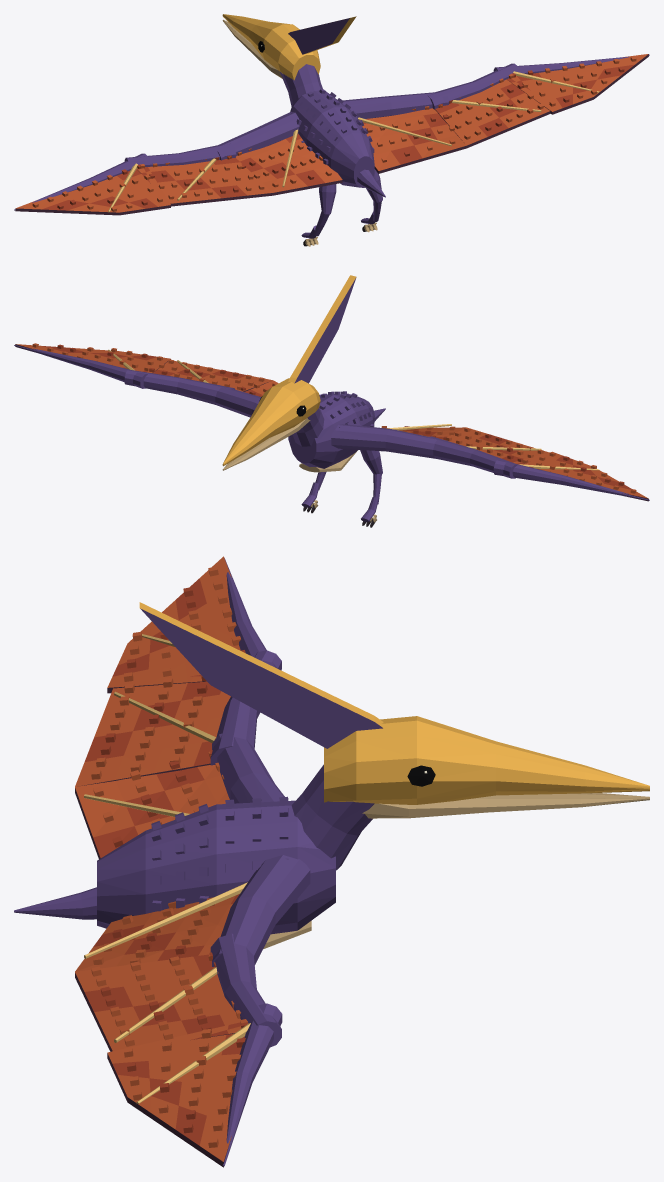
Rendered from Pteranodon.fbx.
3 views of the same model, one above another, from view 1: azimuth 30°, elevation 25°; view 2: azimuth 150°, elevation 25°; view 3: azimuth 270°, elevation 25° (orthographic). The views are drawn at different scales.
Parts seen in each view (by area): view 1: Import3D_WingR, Import3D_WingElbowR, Import3D_WingElbowL, Import3D_WingL, Import3D_Core, Import3D_WingTipL, Import3D_WingTipR, Import3D_Head, Import3D_Neck, Import3D_Jaw, Import3D_LegBL, Import3D_Tail; view 2: Import3D_Head, Import3D_Core, Import3D_WingElbowR, Import3D_WingTipL, Import3D_WingL, Import3D_WingElbowL, Import3D_WingTipR, Import3D_WingR, Import3D_Jaw, Import3D_Neck, Import3D_LegBL; view 3: Import3D_Head, Import3D_Core, Import3D_WingElbowR, Import3D_WingTipR, Import3D_WingElbowL, Import3D_WingR, Import3D_WingL, Import3D_WingTipL, Import3D_Jaw, Import3D_Neck, Import3D_Tail.
Part boxes in pixels (box(x1,y1,x2,y2)): Import3D_WingR: box(342, 92, 466, 173); Import3D_WingElbowR: box(428, 63, 550, 148); Import3D_WingElbowL: box(124, 143, 273, 206); Import3D_WingL: box(217, 112, 342, 195); Import3D_Core: box(290, 89, 374, 187); Import3D_WingTipL: box(14, 153, 170, 215); Import3D_WingTipR: box(493, 54, 649, 114); Import3D_Head: box(222, 14, 356, 80); Import3D_Neck: box(280, 64, 322, 106); Import3D_Jaw: box(222, 19, 282, 78); Import3D_LegBL: box(319, 184, 336, 214); Import3D_Tail: box(357, 169, 385, 197); Import3D_Head: box(222, 275, 356, 466); Import3D_Core: box(288, 391, 374, 472); Import3D_WingElbowR: box(124, 359, 272, 405); Import3D_WingTipL: box(493, 451, 649, 501); Import3D_WingL: box(331, 424, 466, 458); Import3D_WingElbowL: box(428, 427, 549, 478); Import3D_WingTipR: box(14, 343, 170, 388); Import3D_WingR: box(215, 380, 278, 417); Import3D_Jaw: box(222, 418, 310, 470); Import3D_Neck: box(292, 408, 324, 446); Import3D_LegBL: box(360, 450, 382, 474); Import3D_Head: box(139, 602, 649, 804); Import3D_Core: box(97, 796, 335, 949); Import3D_WingElbowR: box(75, 933, 281, 1051); Import3D_WingTipR: box(107, 1003, 282, 1167); Import3D_WingElbowL: box(75, 650, 281, 786); Import3D_WingR: box(75, 855, 310, 971); Import3D_WingL: box(75, 733, 284, 859); Import3D_WingTipL: box(107, 556, 277, 693); Import3D_Jaw: box(362, 793, 649, 818); Import3D_Neck: box(291, 764, 374, 870); Import3D_Tail: box(14, 887, 96, 919).
Size of the model in its own units: 710 by 248 by 314.
1 material, 1 textured.
